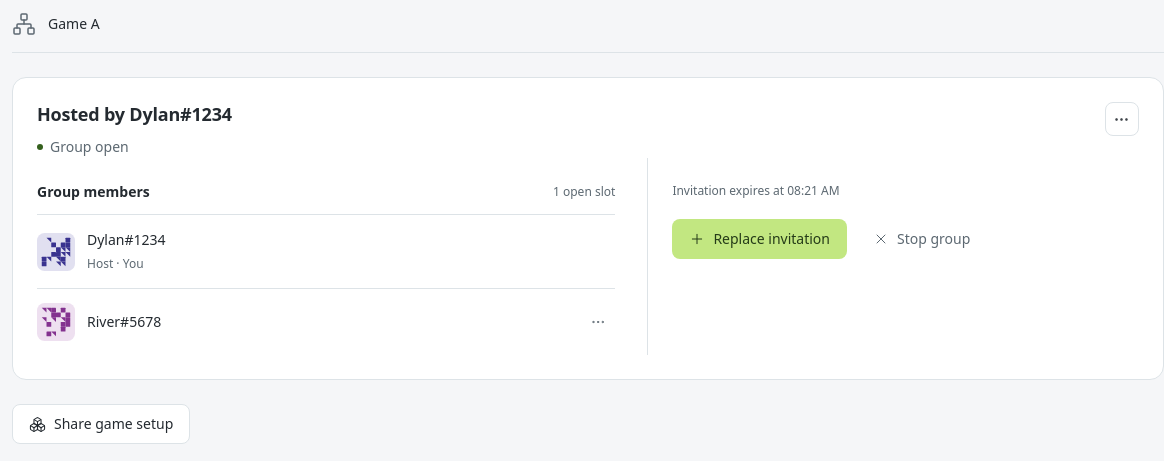
updates only from actual membership events, ignores older events and supports contextual kick and revoke
The width and height of the screenshot is (1164, 461).
Step 1. Click the button with id "5678" → click(598, 322), box [581,305,615,339]
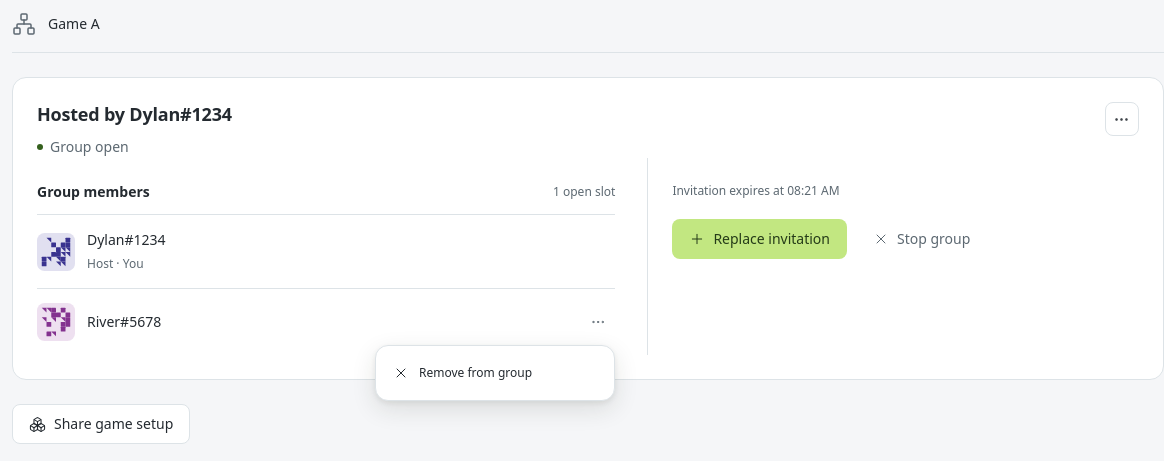
Step 2. Click the menu item "Remove from group" → click(463, 372), box [393,364,532,381]
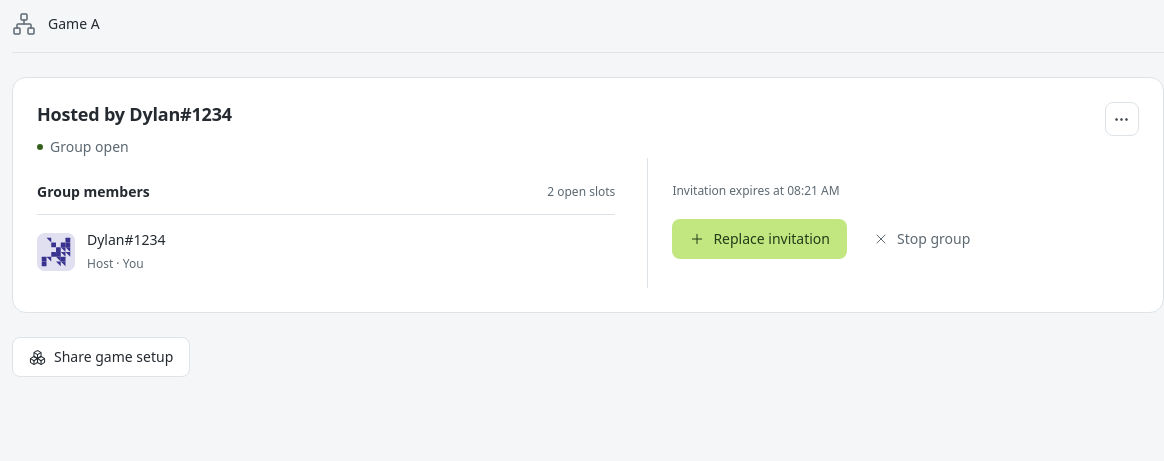
Expected: the text "River#5678" is gone
Step 3. Click the button named "Group actions" → click(1122, 119), box [1105,102,1139,136]
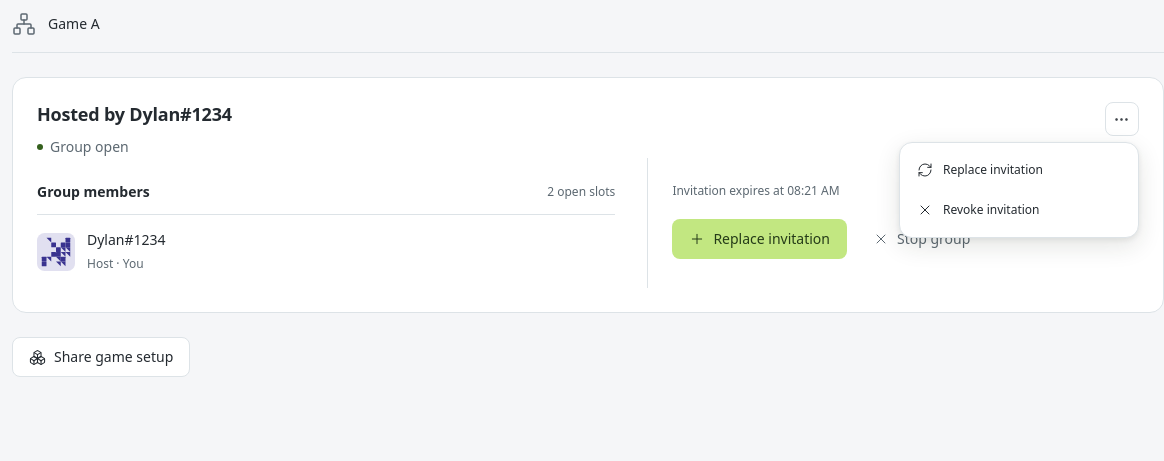
Step 4. Click the menu item "Revoke invitation" → click(978, 209), box [917,201,1040,218]
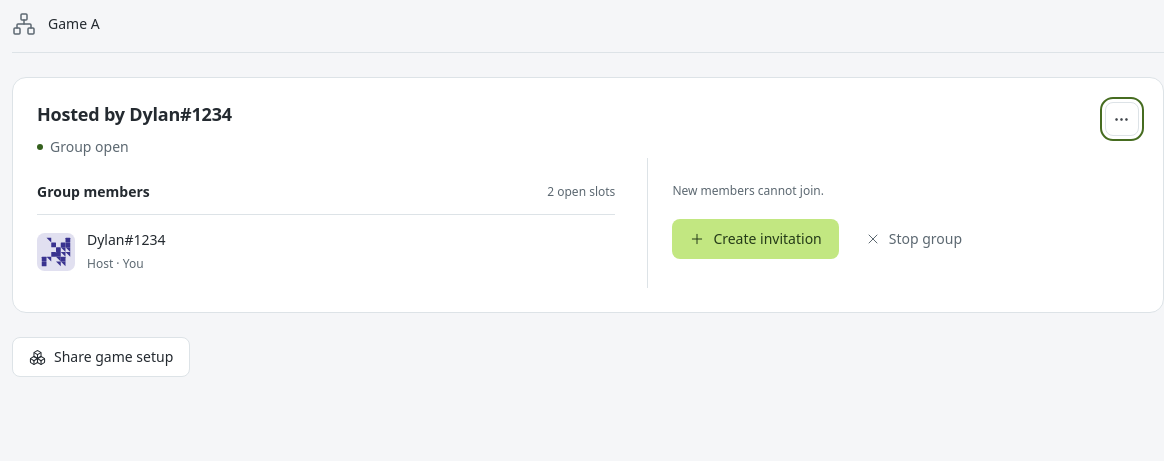
Expected: the text "New members cannot join." is shown, [672,182,824,199]
